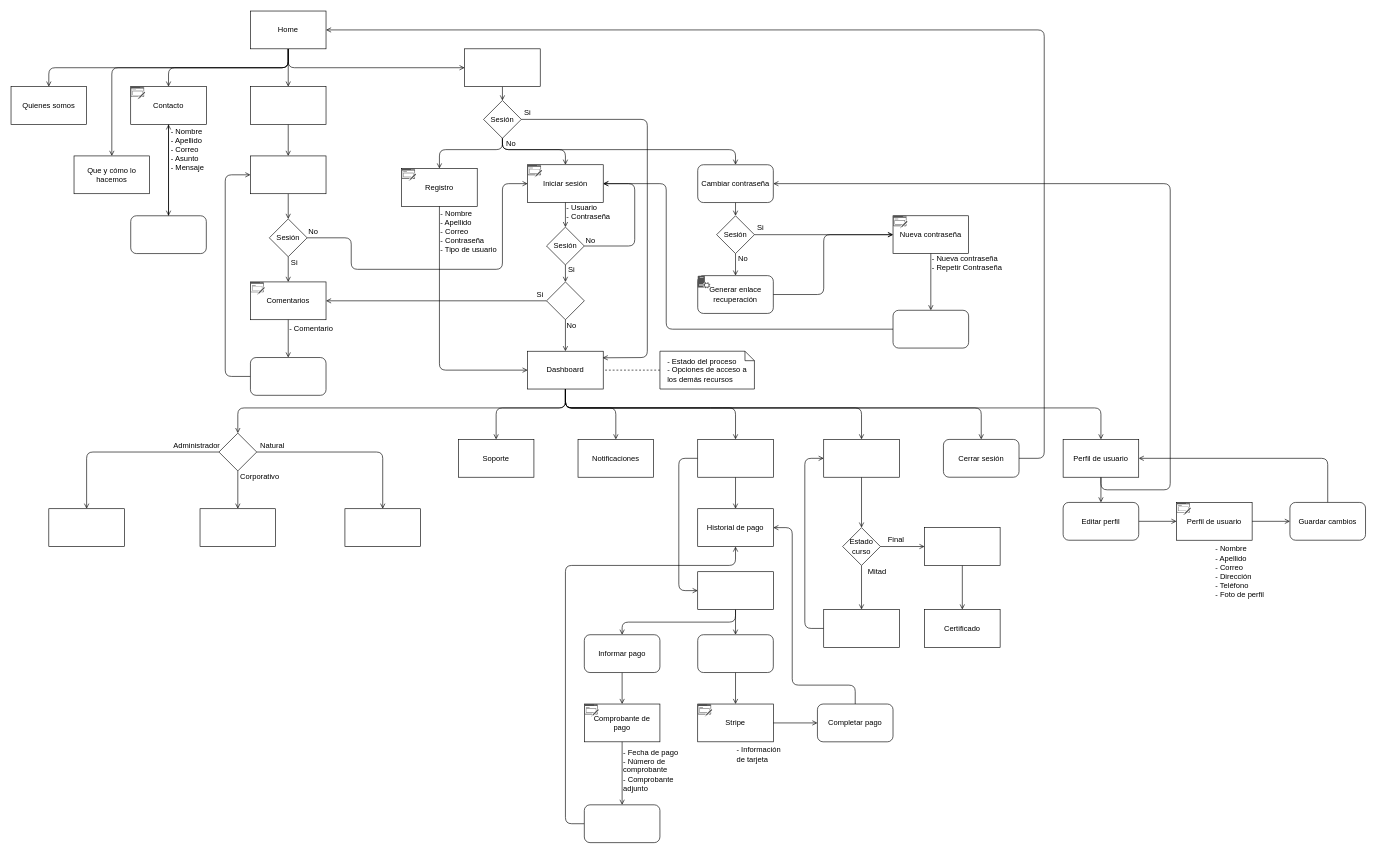
Image size: 1377x854. Some labels were removed from this diagram. The centre of each missing label's shape, as x and y in pixels:
Blog: point (288, 105)
Comenta: point (565, 300)
Curso: point (861, 458)
Enviar comentario: point (288, 376)
Enviar comprobante: point (622, 823)
Enviar mensaje: point (168, 234)
Establecer contraseña: point (930, 329)
Evaluación Final: point (962, 546)
Facturación: point (735, 458)
Orden de pago: point (735, 590)
Pagar orden: point (735, 653)
Publicación: point (288, 174)
Resultados evaluación MBTI: point (861, 628)
Usuario: point (237, 451)
Área del cliente: point (502, 67)
